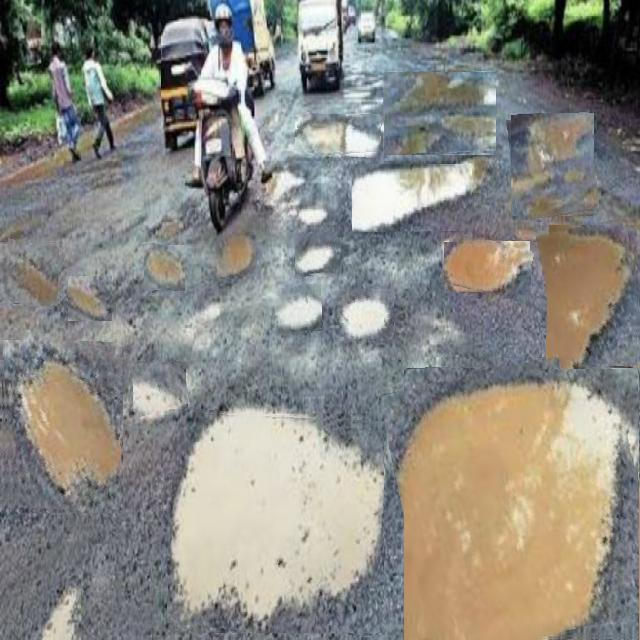Pothole: (391, 357, 640, 640), (170, 412, 384, 633), (0, 334, 123, 513), (542, 221, 640, 369), (508, 113, 597, 218), (384, 72, 496, 155), (352, 164, 472, 231), (442, 237, 532, 298), (0, 240, 62, 306), (295, 114, 381, 157), (131, 362, 188, 415), (337, 288, 394, 339), (278, 285, 322, 333), (144, 243, 186, 291), (68, 276, 112, 321), (295, 232, 337, 276), (216, 232, 257, 276)
